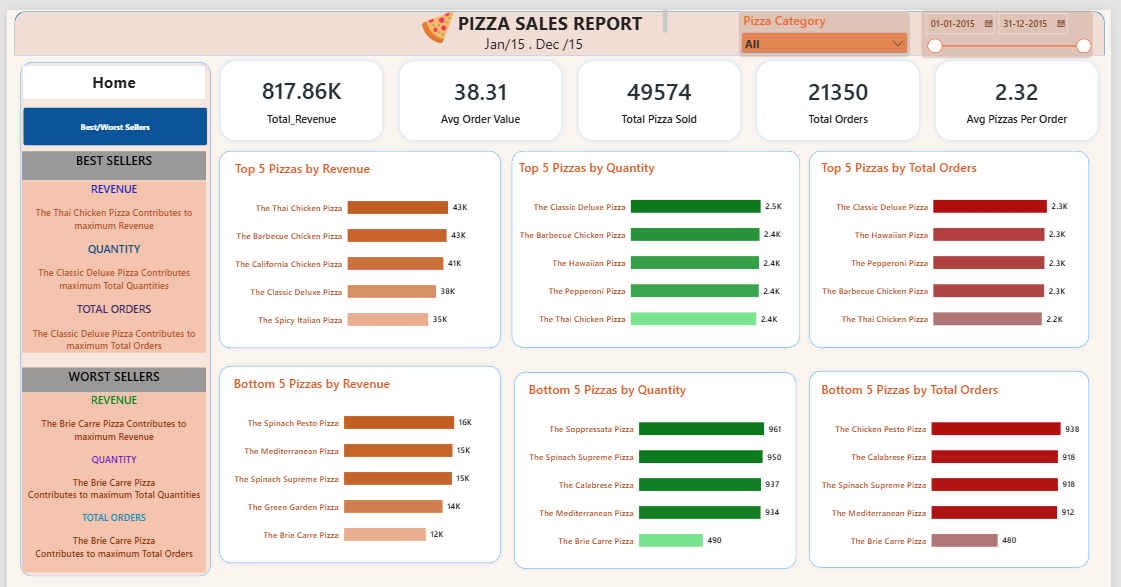

What the dashboard file says about the page in this screenshot:
{"tool":"powerbi","page":{"name":"Best/Worst Sellers","canvas":[1920,1080],"ordinal":1},"visuals":[{"type":"cardVisual","fields":{"Data":["pizza_sales.Total_Revenue","pizza_sales.Avg Order Value","pizza_sales.Total Pizza Sold","pizza_sales.Total Orders","pizza_sales.Avg Pizzas Per Order"]},"box":[361.9,77.8,1547.3,159.3],"z":0},{"type":"shape","box":[13.5,1.9,1896.2,76.9],"z":1000},{"type":"textbox","box":[749,0,398,41.2],"z":2000},{"type":"textbox","box":[829.4,39.2,270.6,37.3],"z":3000},{"type":"image","box":[702,2,94.1,56.9],"z":4000},{"type":"shape","box":[361.9,237.1,506.1,359.2],"z":5000},{"type":"shape","box":[14.5,83.2,347.5,910.3],"z":6000},{"type":"textbox","box":[27.1,246.1,320.3,50.7],"z":7000},{"type":"textbox","box":[27.1,296.8,320.3,298.6],"z":8000},{"type":"textbox","box":[27.1,620.7,320.3,43.4],"z":9000},{"type":"textbox","box":[27.1,664.1,320.3,313.1],"z":10000},{"type":"slicer","fields":{"Values":["pizza_sales.pizza_category"]},"box":[1271.2,1.9,300,80],"z":11000},{"type":"slicer","fields":{"Values":["pizza_sales.order_date"]},"box":[1589.8,0,300,83.7],"z":12000},{"type":"shape","box":[868.6,237.1,517.6,358.3],"z":13000},{"type":"shape","box":[1386.2,237.1,503.1,358.3],"z":14000},{"type":"shape","box":[361.9,611.7,506.1,359.2],"z":15000},{"type":"shape","box":[874.1,620.7,506.7,358.3],"z":16000},{"type":"shape","box":[1386.2,618.9,503.1,358.3],"z":17000},{"type":"barChart","title":"Top 5 Pizzas by Revenue","fields":{"Category":["pizza_sales.pizza_name"],"Y":["pizza_sales.Total_Revenue"]},"box":[380,246.1,469.4,340.8],"z":18000},{"type":"barChart","title":"Bottom 5 Pizzas by Revenue","fields":{"Category":["pizza_sales.pizza_name"],"Y":["pizza_sales.Total_Revenue"]},"box":[378.2,618.9,469.4,340.8],"z":18001},{"type":"barChart","title":"Top 5 Pizzas by Quantity","fields":{"Category":["pizza_sales.pizza_name"],"Y":["pizza_sales.Total Pizza Sold"]},"box":[874.1,244.3,503.1,342],"z":18002},{"type":"barChart","title":"Bottom 5 Pizzas by Quantity","fields":{"Category":["pizza_sales.pizza_name"],"Y":["pizza_sales.Total Pizza Sold"]},"box":[890.4,629.8,472.3,340.2],"z":18003},{"type":"barChart","title":"Top 5 Pizzas by Total Orders","fields":{"Category":["pizza_sales.pizza_name"],"Y":["pizza_sales.Total Orders"]},"box":[1400.7,244.3,481.4,342],"z":18004},{"type":"barChart","title":"Bottom 5 Pizzas by Total Orders","fields":{"Category":["pizza_sales.pizza_name"],"Y":["pizza_sales.Total Orders"]},"box":[1400.7,629.8,481.4,340.2],"z":18005},{"type":"pageNavigator","box":[27.1,95.9,320.3,61.5],"z":18006},{"type":"pageNavigator","box":[29,170.1,320.3,67],"z":18007}]}

Visuals, with their boxes on the page's 1920x1080 design canvas (x1, y1, x2, y2). These are canvas units, not pixel positions in the 1121x587 screenshot, which may show the page scaled, cropped or inside an application window:
cardVisual - pizza_sales.Total_Revenue x pizza_sales.Avg Order Value: 362, 78, 1909, 237
shape: 14, 2, 1910, 79
textbox: 749, 0, 1147, 41
textbox: 829, 39, 1100, 76
image: 702, 2, 796, 59
shape: 362, 237, 868, 596
shape: 14, 83, 362, 994
textbox: 27, 246, 347, 297
textbox: 27, 297, 347, 595
textbox: 27, 621, 347, 664
textbox: 27, 664, 347, 977
slicer - pizza_sales.pizza_category: 1271, 2, 1571, 82
slicer - pizza_sales.order_date: 1590, 0, 1890, 84
shape: 869, 237, 1386, 595
shape: 1386, 237, 1889, 595
shape: 362, 612, 868, 971
shape: 874, 621, 1381, 979
shape: 1386, 619, 1889, 977
"Top 5 Pizzas by Revenue" barChart: 380, 246, 849, 587
"Bottom 5 Pizzas by Revenue" barChart: 378, 619, 848, 960
"Top 5 Pizzas by Quantity" barChart: 874, 244, 1377, 586
"Bottom 5 Pizzas by Quantity" barChart: 890, 630, 1363, 970
"Top 5 Pizzas by Total Orders" barChart: 1401, 244, 1882, 586
"Bottom 5 Pizzas by Total Orders" barChart: 1401, 630, 1882, 970
pageNavigator: 27, 96, 347, 157
pageNavigator: 29, 170, 349, 237
